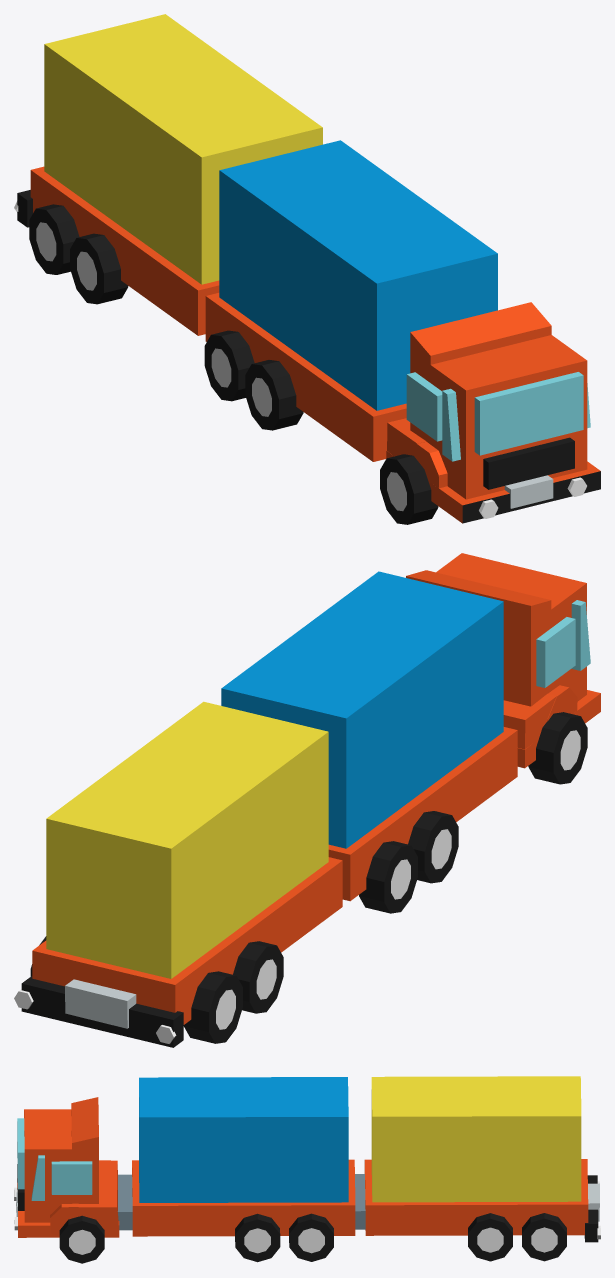
The model's file is group1355834799_lev2.glb.
3 views of the same model, one above another, from view 1: azimuth 30°, elevation 25°; view 2: azimuth 150°, elevation 25°; view 3: azimuth 270°, elevation 25° (orthographic). The views are drawn at different scales.
Parts seen in each view (by area): view 1: group1355834799_lev2; view 2: group1355834799_lev2; view 3: group1355834799_lev2.
Part boxes in pixels (x1=…): group1355834799_lev2: x1=14, y1=14, x2=600, y2=524; group1355834799_lev2: x1=14, y1=553, x2=600, y2=1047; group1355834799_lev2: x1=14, y1=1076, x2=600, y2=1263.
Size of the model in its own units: 1.25 by 1.34 by 5.22.
